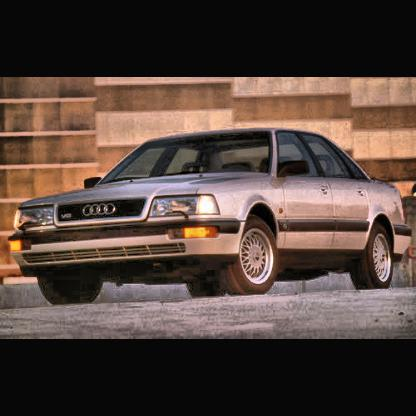Audi V8 Sedan 1994: (8, 126, 415, 298)
